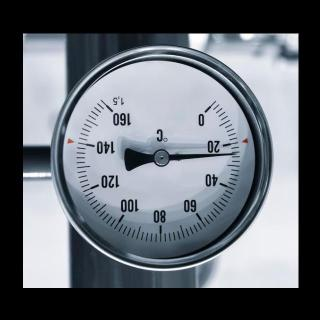gauge: (52, 49, 274, 275), (96, 93, 136, 127), (190, 95, 222, 128), (152, 148, 170, 168), (228, 150, 240, 158)
